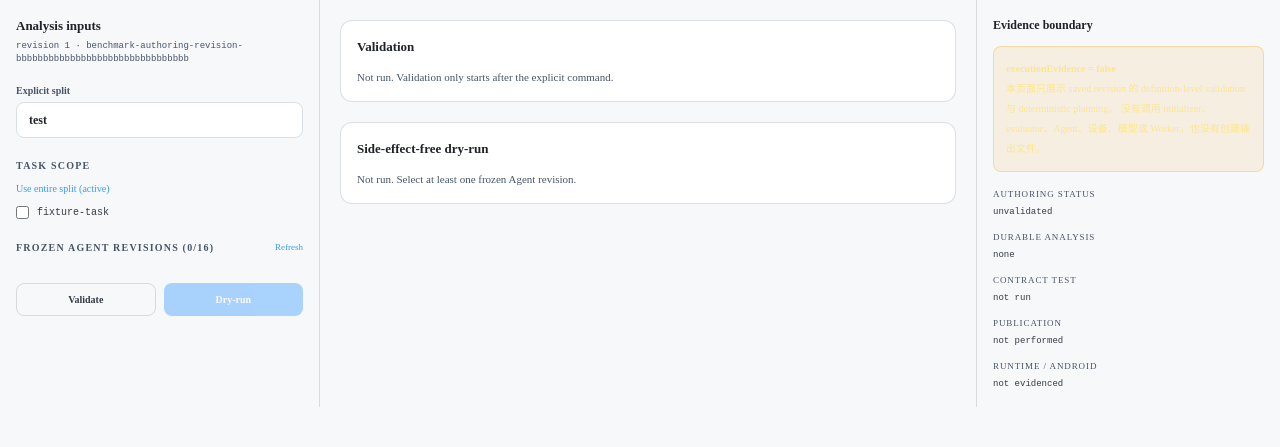
Test: BenchmarkValidationDryRunView › surfaces stale-current as Reload Remote ownership without a result
This screenshot has width=1280, height=447.
What coordinates should you click on to do the following:
click the button "Validate"
I would click on:
 (86, 300)
Its box is [16,283,156,316].
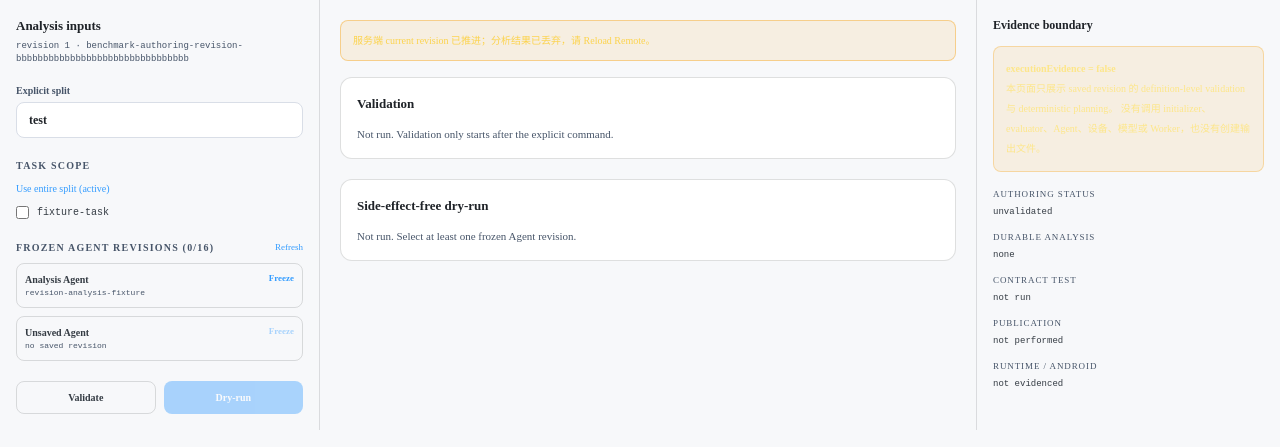
Expected: the text "服务端 current revision 已推进；分析结果已丢弃，请 Reload Remote。" is shown, [340,20,956,61]
